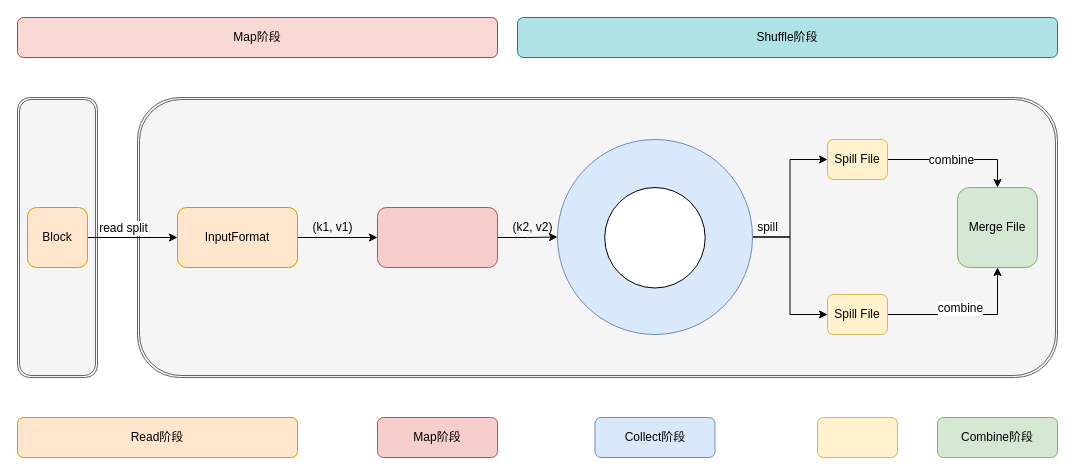
Some shapes in this 1075 by 475 pixel diagram are drawn without their labels. Each missing label, with the box of its shape:
HDFS: (16, 96, 98, 378)
Mapper: (376, 206, 498, 268)
MapTask: (136, 96, 1058, 378)
Partitioner、Sorter、Combiner: (604, 186, 705, 288)
Spill阶段: (816, 416, 898, 458)
